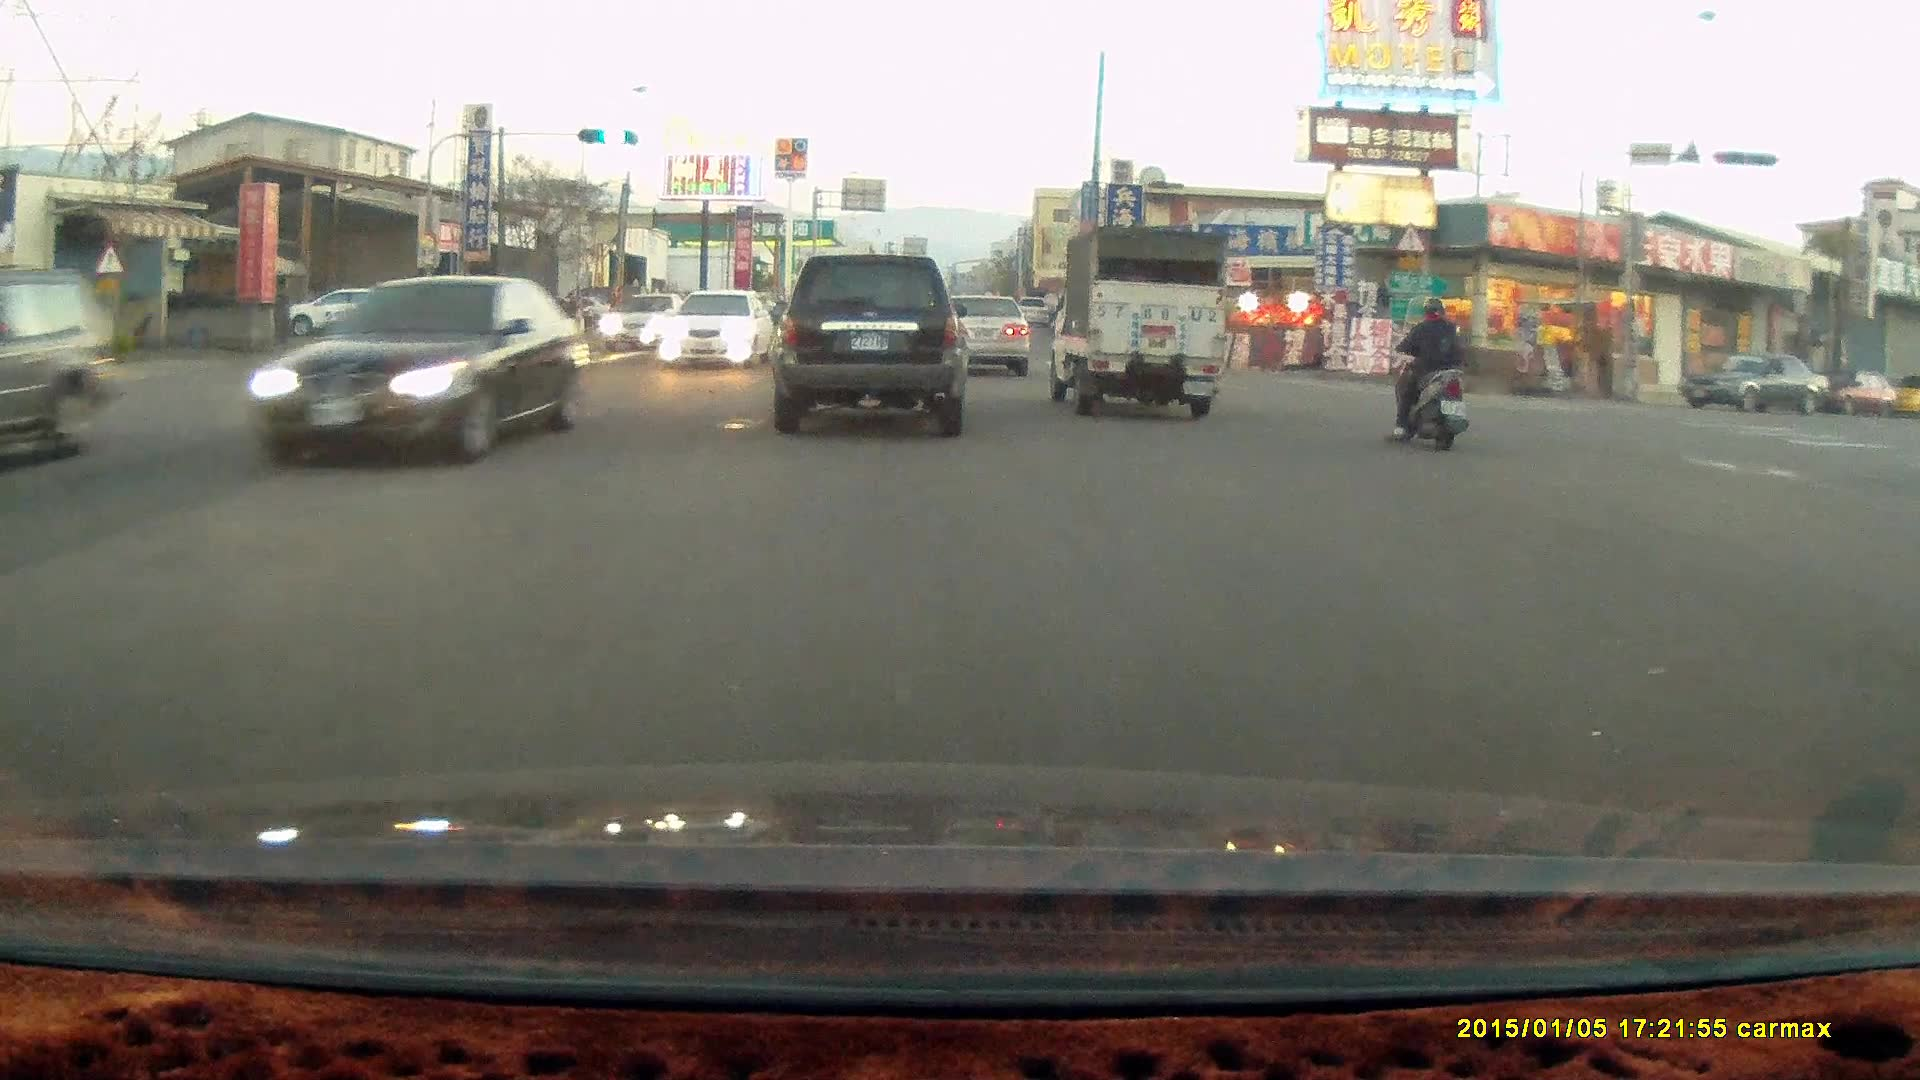rider: (1385, 293, 1471, 454)
vehicle: (253, 276, 588, 472), (767, 255, 969, 440), (1040, 227, 1226, 421), (1, 268, 130, 471), (393, 284, 540, 370), (1677, 354, 1832, 419), (658, 288, 774, 373), (926, 290, 1030, 378), (938, 296, 1032, 381), (291, 287, 414, 338), (604, 294, 687, 361), (1810, 372, 1899, 421)
